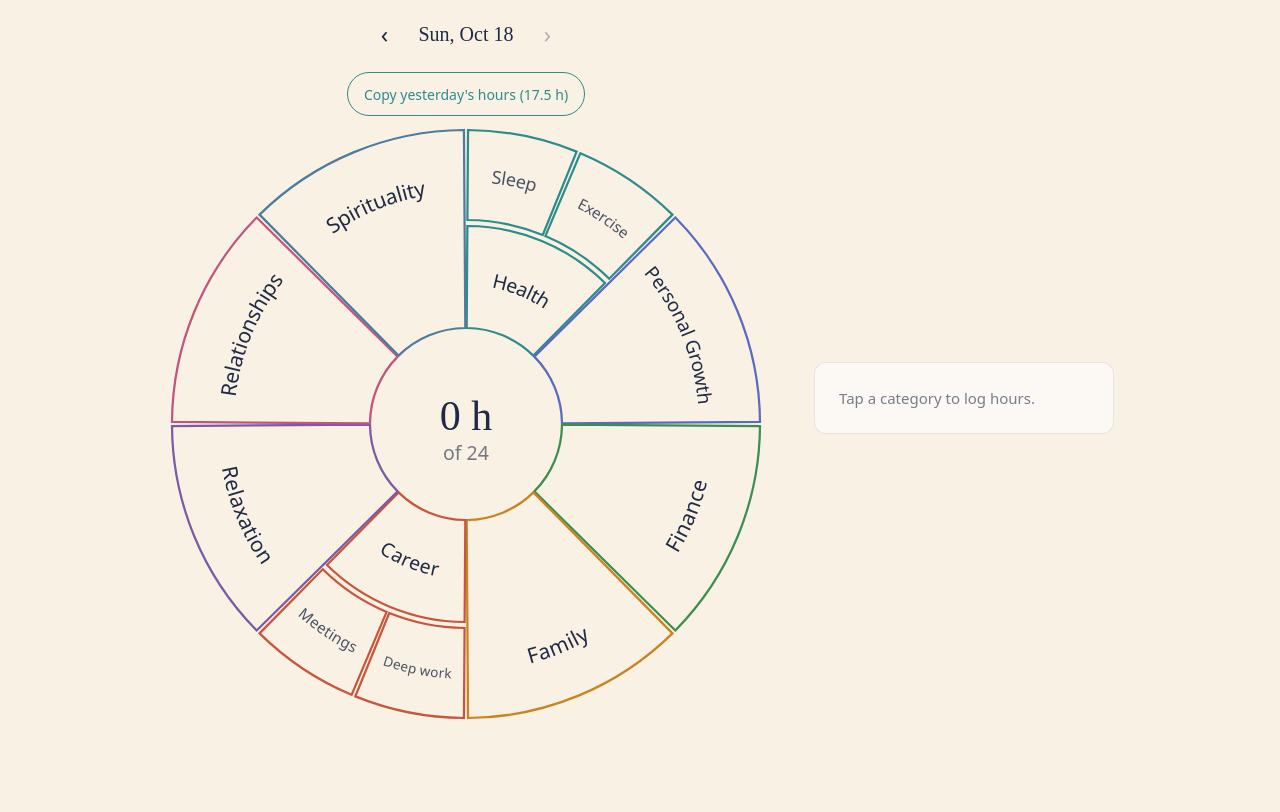
Test: DayView copy previous day › shows a failure and changes nothing when the copy fails
Click the button "Copy yesterday's hours (17.5 h)".
click(466, 94)  # box x1=347 y1=72 x2=585 y2=116
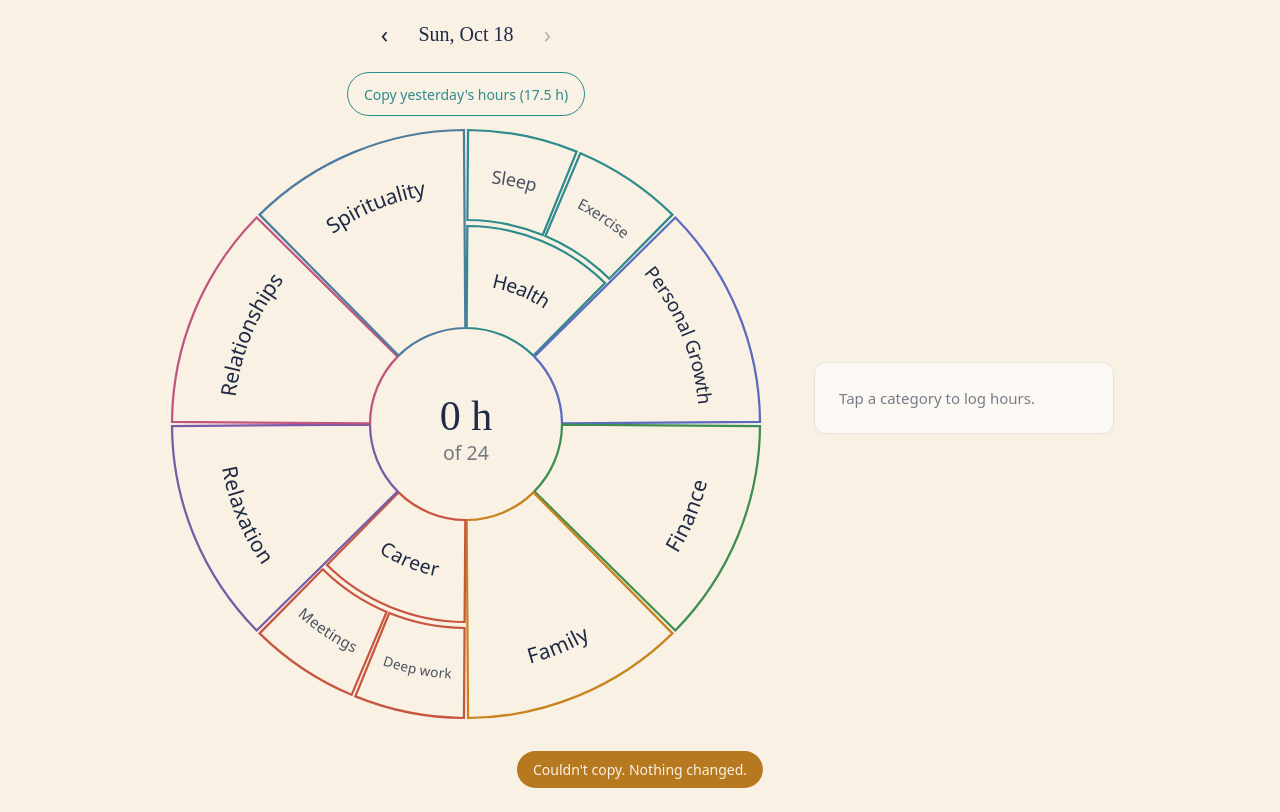
Result: the message reads "Couldn't copy. Nothing changed." at x1=533 y1=760 x2=747 y2=779
